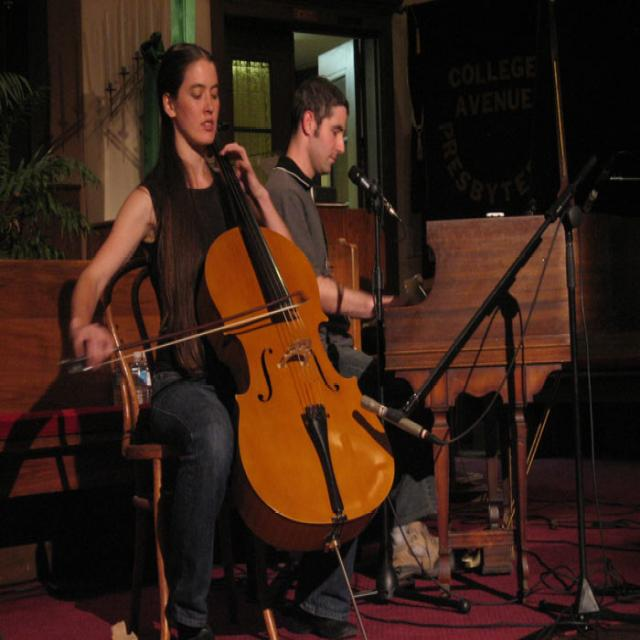cello: (194, 116, 398, 555)
